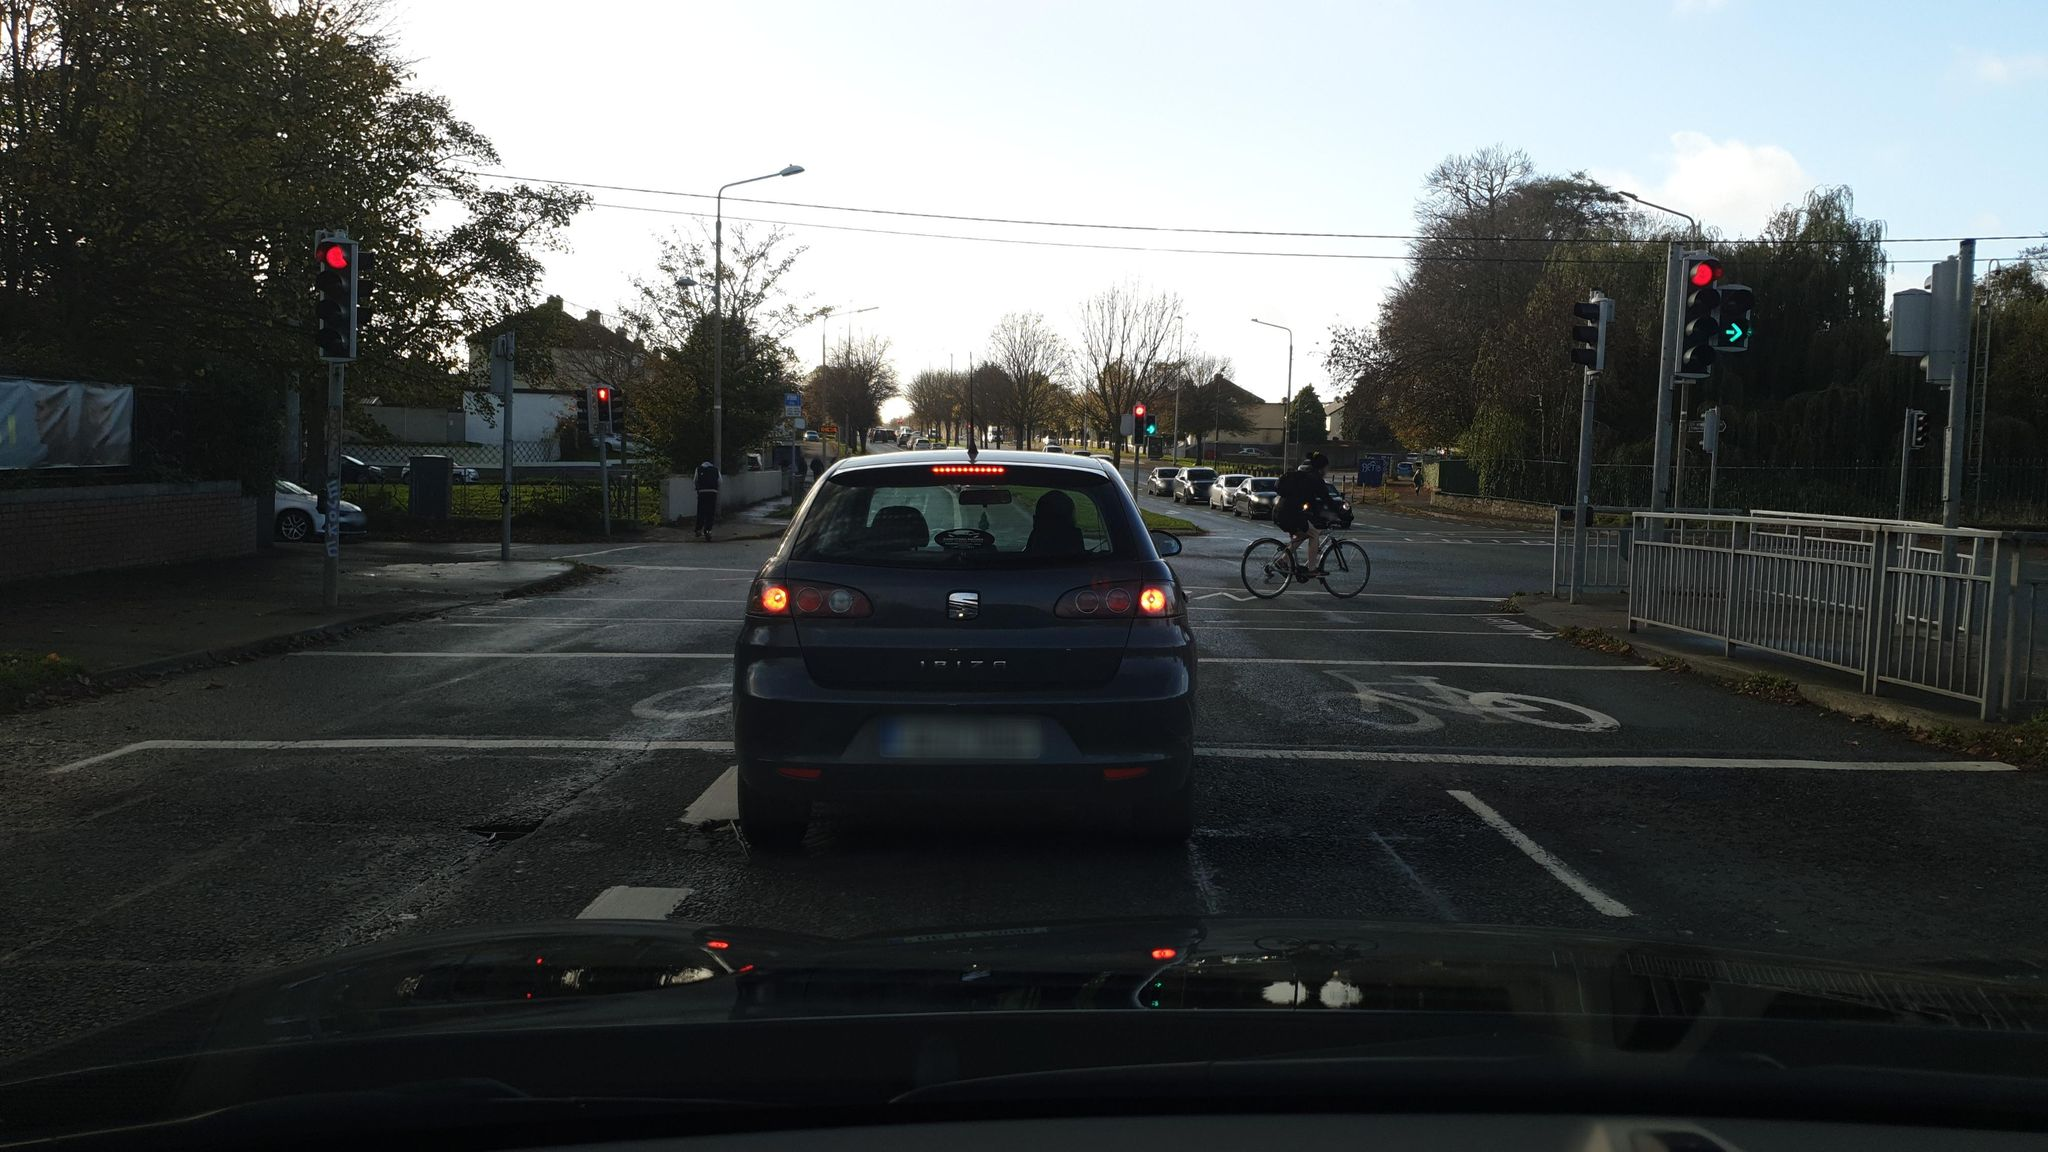vinyl banner: (1, 367, 148, 497)
